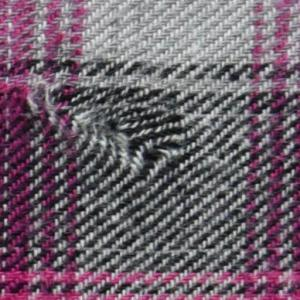Damage: (15, 47, 195, 201)
